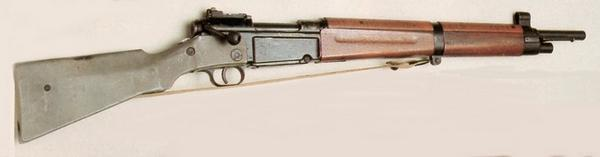gun: (9, 4, 591, 150)
